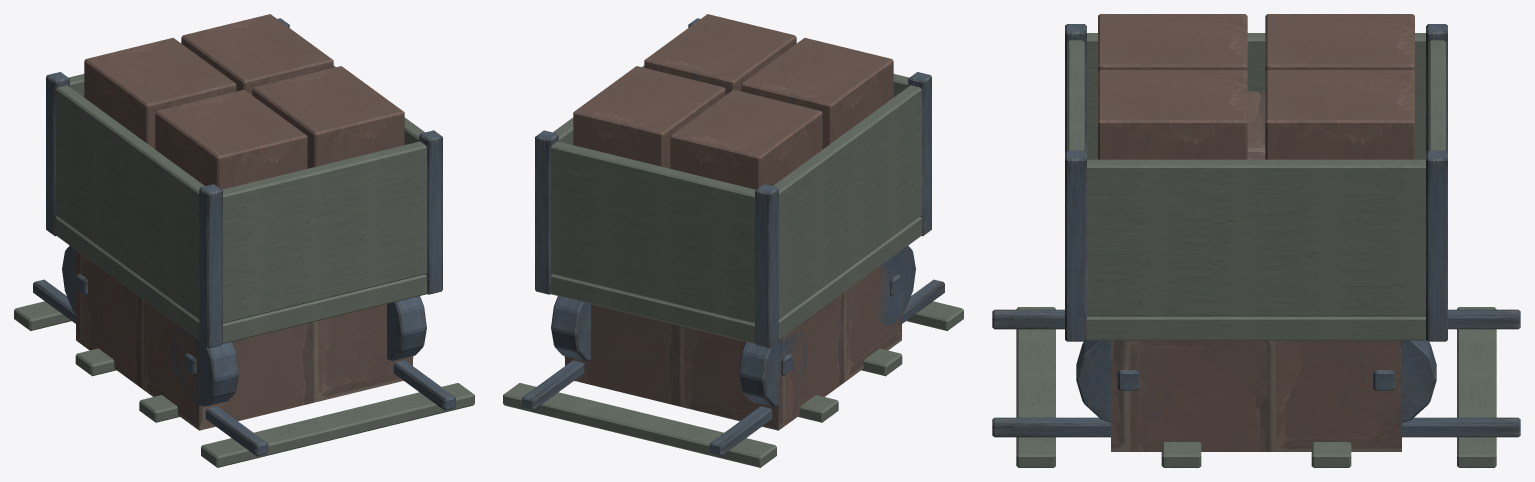
The model's file is env-rubble-cart.glb.
3 views of the same model, side by side, from view 1: azimuth 30°, elevation 25°; view 2: azimuth 150°, elevation 25°; view 3: azimuth 270°, elevation 25° (orthographic). The views are drawn at different scales.
Visible parts, largest first — view 1: VIS_timbersoot, VIS_brick, COL_crate, VIS_metal; view 2: VIS_timbersoot, VIS_brick, COL_crate, VIS_metal; view 3: VIS_timbersoot, VIS_brick, COL_crate, VIS_metal.
Part boxes in pixels (bbox=[...]): VIS_timbersoot: bbox=[14, 65, 474, 467]; VIS_brick: bbox=[84, 14, 404, 189]; COL_crate: bbox=[76, 250, 412, 430]; VIS_metal: bbox=[33, 18, 455, 456]; VIS_timbersoot: bbox=[503, 65, 963, 467]; VIS_brick: bbox=[573, 14, 893, 189]; COL_crate: bbox=[565, 264, 901, 430]; VIS_metal: bbox=[522, 18, 944, 456]; VIS_timbersoot: bbox=[1016, 33, 1496, 467]; VIS_brick: bbox=[1098, 14, 1414, 159]; COL_crate: bbox=[1111, 91, 1401, 451]; VIS_metal: bbox=[992, 24, 1520, 437].
Bounding box in the file's own units: 0.8 × 0.82 × 1.2.
3 materials, 3 textured.
